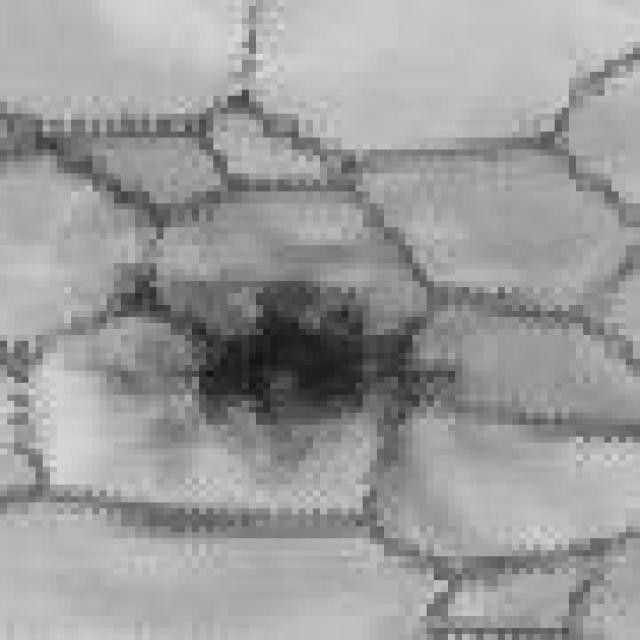good_void: (119, 261, 454, 438)
